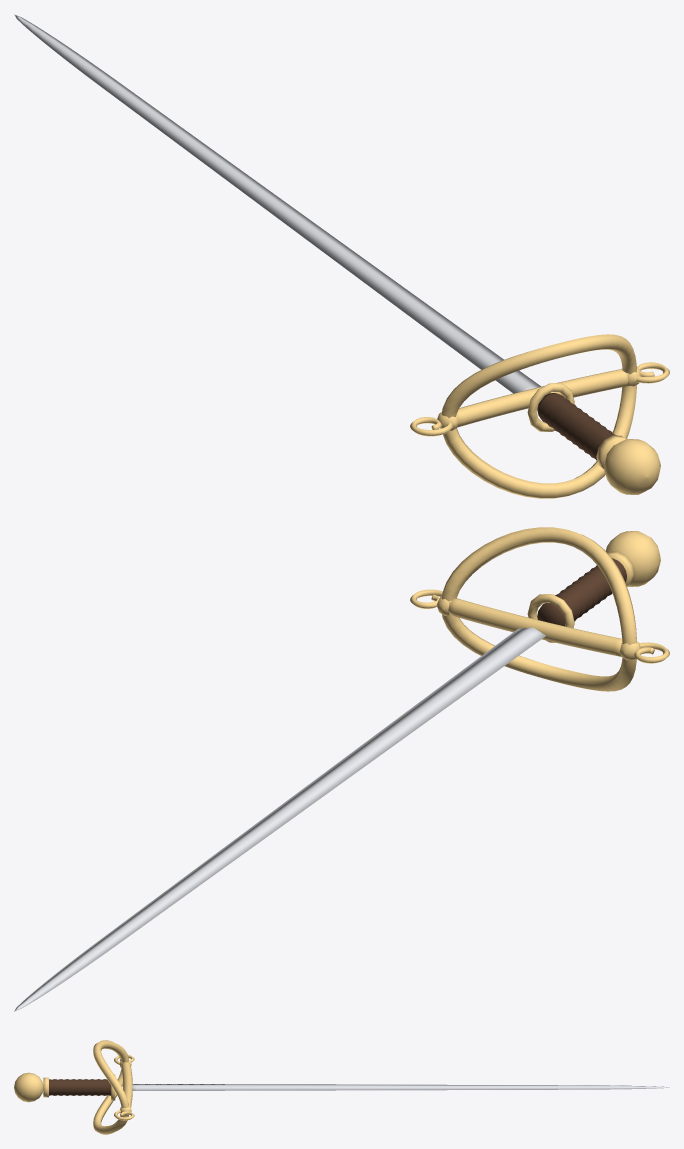
File: rapier.glb
The picture shows the model from 3 angles, top to bottom: view 1: azimuth 30°, elevation 25°; view 2: azimuth 150°, elevation 25°; view 3: azimuth 270°, elevation 25°; orthographic projection. The views are drawn at different scales.
Visible parts, largest first — view 1: Rapier; view 2: Rapier; view 3: Rapier.
Part boxes in pixels (x1,y1,x2,y2): Rapier: [14, 14, 669, 498]; Rapier: [14, 527, 669, 1011]; Rapier: [14, 1040, 669, 1134].
Size of the model in its own units: 0.266 by 0.155 by 1.14.
